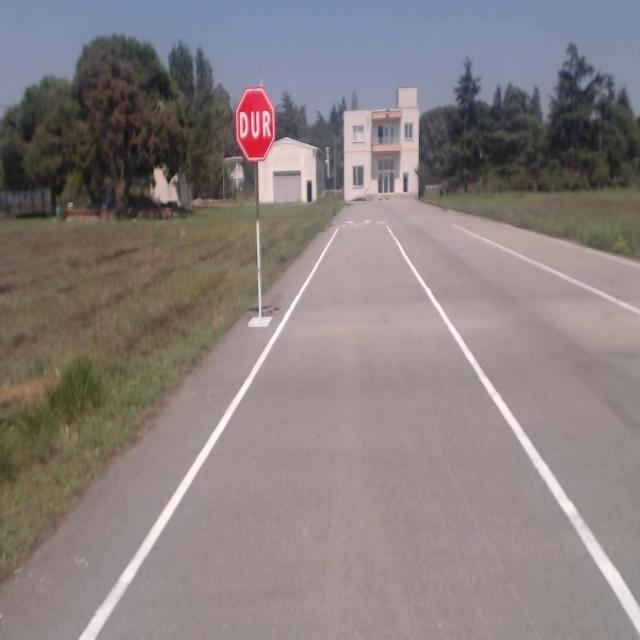dur: (236, 86, 274, 160)
